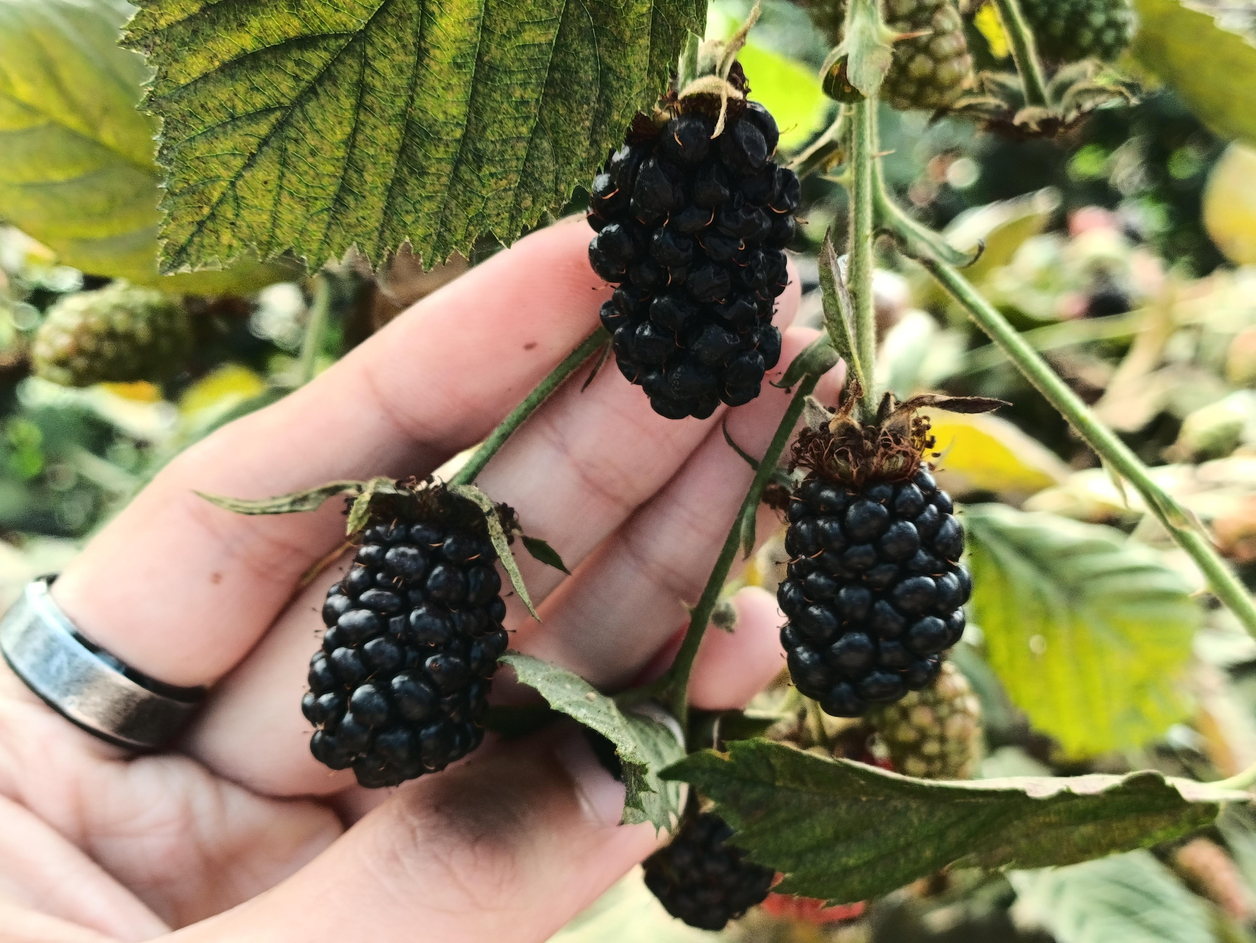maduro: (591, 95, 790, 418), (303, 488, 509, 790), (777, 430, 967, 709)
